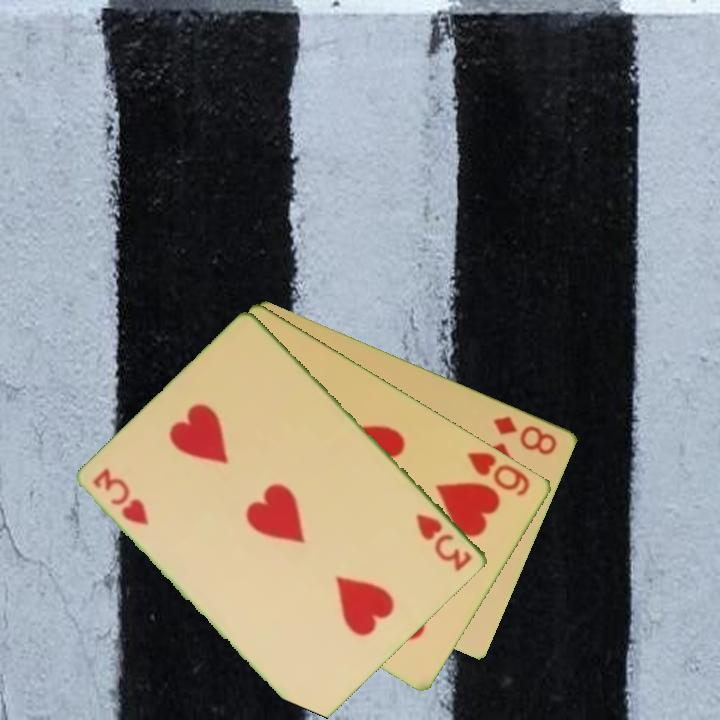3h: (89, 464, 153, 529), (413, 510, 476, 575)
6h: (464, 448, 534, 500)
8d: (489, 412, 561, 458)
